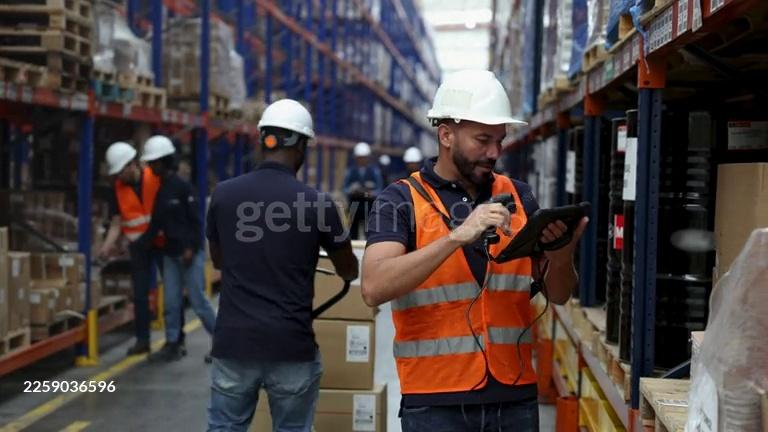helmet: (428, 70, 529, 127), (254, 99, 316, 139), (104, 142, 136, 176), (138, 135, 176, 162), (401, 147, 422, 163), (354, 142, 371, 155)
person: (361, 66, 591, 432), (208, 98, 361, 432), (140, 133, 218, 364), (93, 142, 173, 357), (338, 142, 386, 238), (392, 147, 426, 188)
